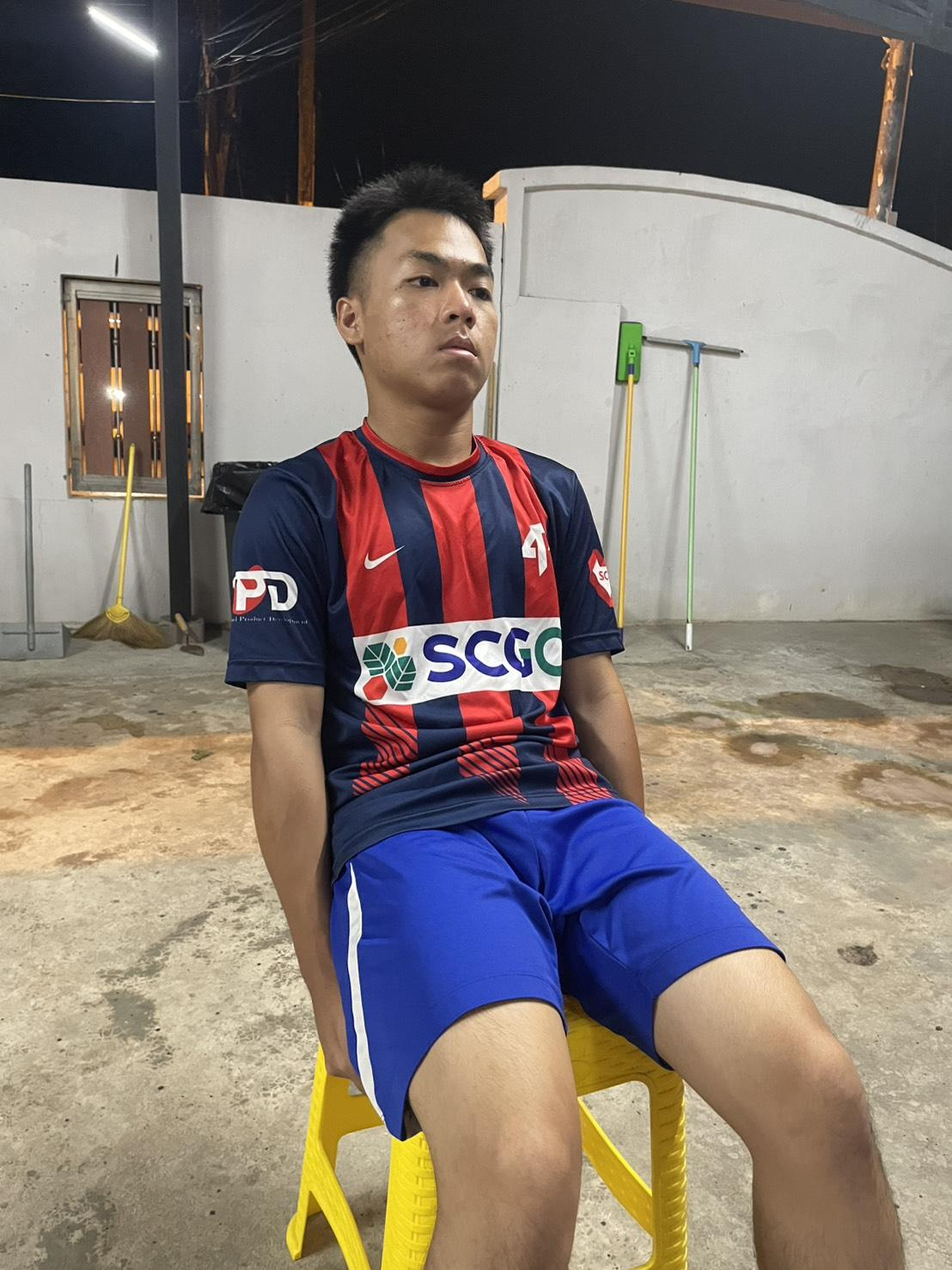BadPosture: (227, 167, 904, 1269), (229, 166, 644, 840)
